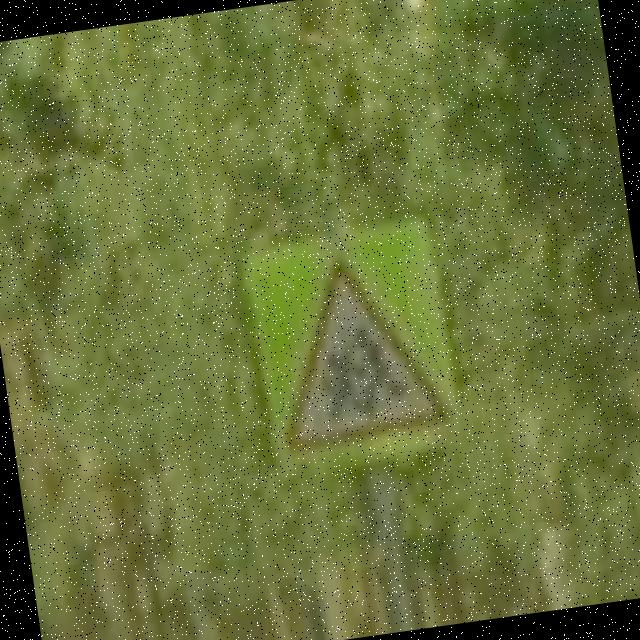Dzieci: (255, 237, 456, 454)
